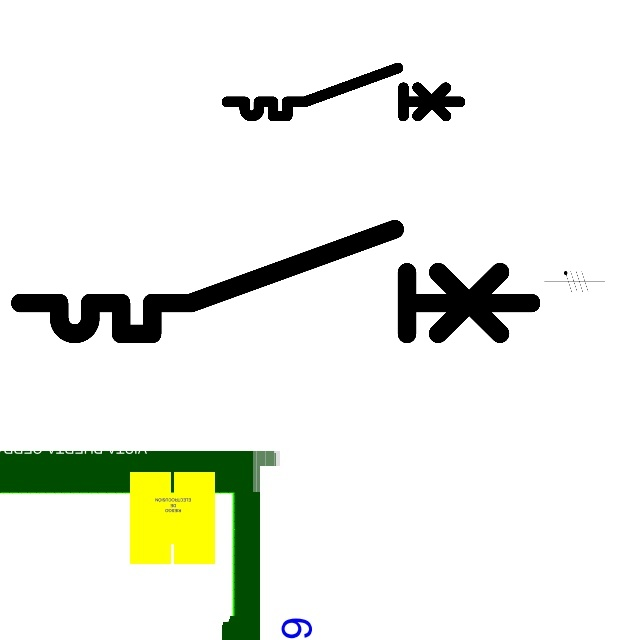interruptor_termomagnetico: (7, 216, 544, 347), (221, 62, 465, 122)
